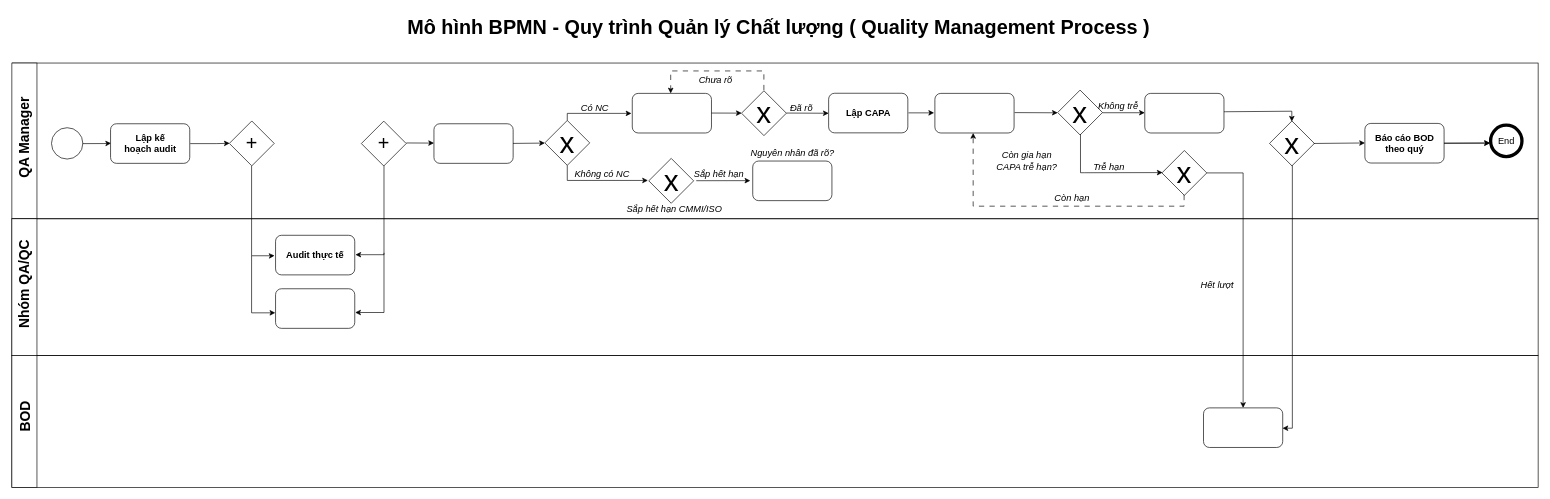
Image size: 1550x499. Some labels were removed from this diagram. Here are the shapes that lost their labels. From the top down, the centre of each, then its label:
At point (671, 113): "Phân tích nguyên nhân gốc rễ".
At point (974, 113): "Theo dõi tiến độ CAPA".
At point (1184, 113): "Đóng NC".
At point (67, 143): "Start".
At point (473, 143): "Đánh giá kết quả NC".
At point (792, 180): "Chuẩn bị tái chứng nhận".
At point (315, 308): "Rà soát tài liệu PRO".
At point (1243, 427): "Escalate BOD/ đóng cưỡng chế".
